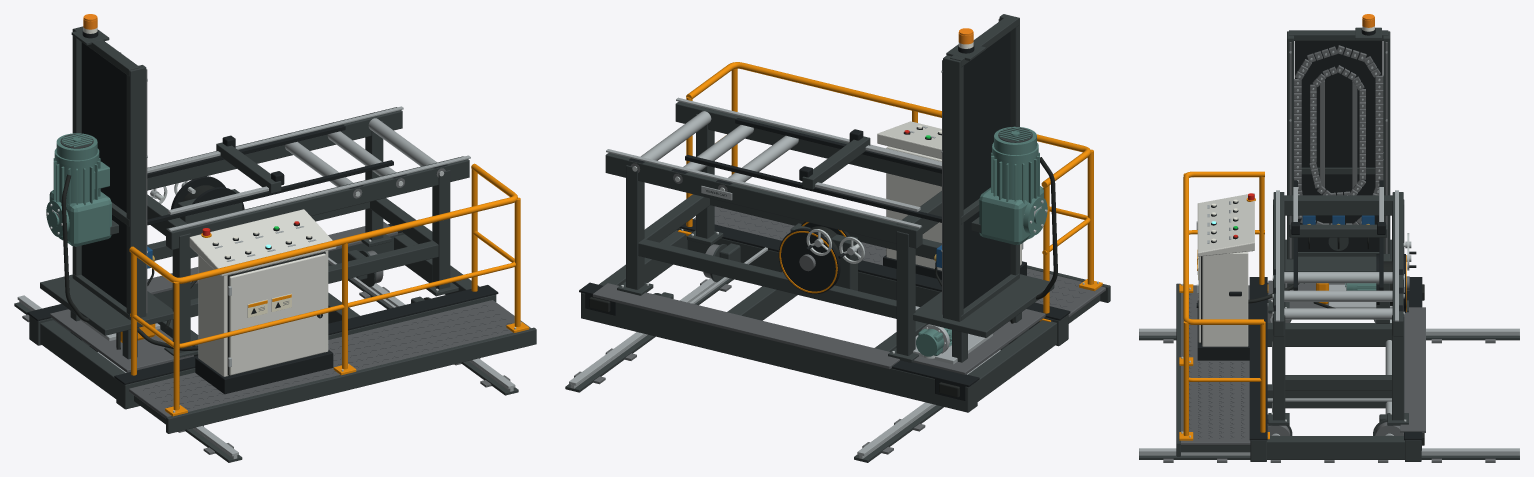
Rendered from photo_transfer_cart_v6.glb.
3 views of the same model, side by side, from view 1: azimuth 30°, elevation 25°; view 2: azimuth 150°, elevation 25°; view 3: azimuth 270°, elevation 25° (orthographic). The views are drawn at different scales.
Visible parts, largest first — view 1: cart_v6_cart_transfer_frame_dark_structure, cart_v6_cart_operator_console_cart_panel, cart_v6_cart_tall_head_frame_dark_structure, cart_v6_cart_operator_platform_safety_yellow, cart_v6_cart_operator_platform_cart_tread, cart_v6_cart_tall_head_frame_heat_black, cart_v6_cart_open_chassis_dark_structure, cart_v6_cart_operator_platform_dark_structure, cart_v6_cart_drive_and_cables_motor_teal, cart_v6_cart_open_chassis_cart_tread, cart_v6_cart_open_chassis_heat_black, cart_v6_cart_operator_console_heat_black (+12 smaller); view 2: cart_v6_cart_transfer_frame_dark_structure, cart_v6_cart_open_chassis_dark_structure, cart_v6_cart_tall_head_frame_dark_structure, cart_v6_cart_tall_head_frame_heat_black, cart_v6_cart_open_chassis_cart_tread, cart_v6_cart_drive_and_cables_motor_teal, cart_v6_cart_operator_platform_safety_yellow, cart_v6_cart_operator_console_cart_panel, cart_v6_cart_open_chassis_heat_black, cart_v6_cart_operator_platform_cart_tread, cart_v6_cart_transfer_frame_heat_black, cart_v6_cart_cable_reel_rotate_heat_black (+13 smaller); view 3: cart_v6_cart_tall_head_frame_heat_black, cart_v6_cart_transfer_frame_dark_structure, cart_v6_cart_open_chassis_dark_structure, cart_v6_cart_operator_console_cart_panel, cart_v6_cart_operator_platform_cart_tread, cart_v6_cart_visible_chain_guides_cart_chain, cart_v6_cart_tall_head_frame_dark_structure, cart_v6_cart_operator_platform_safety_yellow, cart_v6_cart_open_chassis_cart_tread, cart_v6_cart_open_chassis_heat_black, cart_v6_cart_reference_rails_brushed_metal, cart_v6_cart_reference_rails_dark_structure (+14 smaller).
Part boxes in pixels (bbox=[...]): cart_v6_cart_transfer_frame_dark_structure: bbox=[147, 107, 469, 357]; cart_v6_cart_operator_console_cart_panel: bbox=[189, 209, 336, 376]; cart_v6_cart_tall_head_frame_dark_structure: bbox=[40, 26, 173, 359]; cart_v6_cart_operator_platform_safety_yellow: bbox=[129, 163, 529, 416]; cart_v6_cart_operator_platform_cart_tread: bbox=[129, 300, 530, 418]; cart_v6_cart_tall_head_frame_heat_black: bbox=[81, 30, 126, 307]; cart_v6_cart_open_chassis_dark_structure: bbox=[29, 232, 496, 409]; cart_v6_cart_operator_platform_dark_structure: bbox=[134, 327, 536, 433]; cart_v6_cart_drive_and_cables_motor_teal: bbox=[46, 133, 111, 246]; cart_v6_cart_open_chassis_cart_tread: bbox=[50, 221, 397, 372]; cart_v6_cart_open_chassis_heat_black: bbox=[27, 223, 498, 384]; cart_v6_cart_operator_console_heat_black: bbox=[195, 223, 333, 394]; cart_v6_cart_transfer_frame_dark_structure: bbox=[605, 101, 941, 362]; cart_v6_cart_open_chassis_dark_structure: bbox=[581, 228, 1068, 412]; cart_v6_cart_tall_head_frame_dark_structure: bbox=[913, 14, 1054, 362]; cart_v6_cart_tall_head_frame_heat_black: bbox=[958, 31, 1010, 308]; cart_v6_cart_open_chassis_cart_tread: bbox=[592, 283, 1045, 374]; cart_v6_cart_drive_and_cables_motor_teal: bbox=[916, 126, 1047, 356]; cart_v6_cart_operator_platform_safety_yellow: bbox=[677, 62, 1102, 321]; cart_v6_cart_operator_console_cart_panel: bbox=[877, 121, 1021, 270]; cart_v6_cart_open_chassis_heat_black: bbox=[579, 219, 1070, 400]; cart_v6_cart_operator_platform_cart_tread: bbox=[693, 206, 1105, 317]; cart_v6_cart_transfer_frame_heat_black: bbox=[629, 107, 941, 222]; cart_v6_cart_cable_reel_rotate_heat_black: bbox=[778, 221, 849, 294]; cart_v6_cart_tall_head_frame_heat_black: bbox=[1294, 28, 1382, 251]; cart_v6_cart_transfer_frame_dark_structure: bbox=[1268, 192, 1408, 425]; cart_v6_cart_open_chassis_dark_structure: bbox=[1250, 283, 1421, 461]; cart_v6_cart_operator_console_cart_panel: bbox=[1197, 193, 1254, 346]; cart_v6_cart_operator_platform_cart_tread: bbox=[1181, 285, 1250, 445]; cart_v6_cart_visible_chain_guides_cart_chain: bbox=[1294, 45, 1383, 224]; cart_v6_cart_tall_head_frame_dark_structure: bbox=[1285, 27, 1391, 289]; cart_v6_cart_operator_platform_safety_yellow: bbox=[1179, 171, 1269, 440]; cart_v6_cart_open_chassis_cart_tread: bbox=[1268, 280, 1425, 432]; cart_v6_cart_open_chassis_heat_black: bbox=[1249, 277, 1422, 450]; cart_v6_cart_reference_rails_brushed_metal: bbox=[1139, 328, 1519, 455]; cart_v6_cart_reference_rails_dark_structure: bbox=[1139, 335, 1519, 459].
Bounding box in the file's own units: 3.8 × 3.23 × 3.55.
